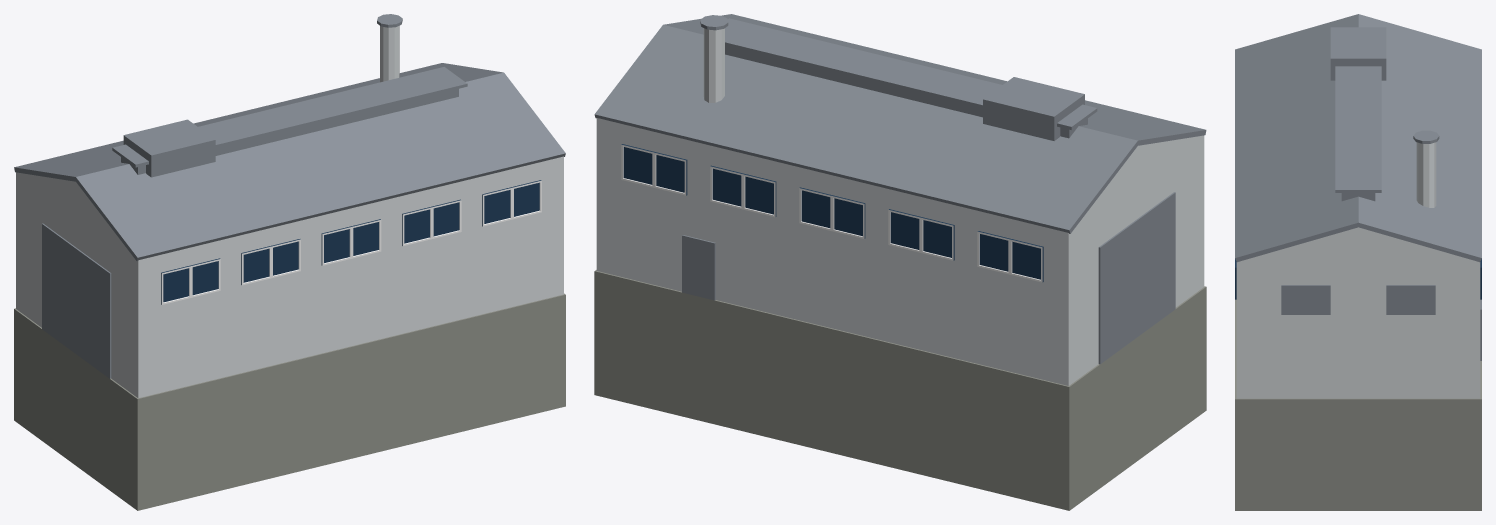
The model's file is site_blower_close.fbx.
The picture shows the model from 3 angles, left to right: view 1: azimuth 30°, elevation 25°; view 2: azimuth 150°, elevation 25°; view 3: azimuth 270°, elevation 25°; orthographic projection. The views are drawn at different scales.
Parts seen in each view (by area): view 1: a1058/0/site_blower_close; view 2: a1058/0/site_blower_close; view 3: a1058/0/site_blower_close.
Boxes of the visible parts, x1,y1,x2,y2 form: a1058/0/site_blower_close: (14, 14, 565, 510); a1058/0/site_blower_close: (594, 14, 1206, 510); a1058/0/site_blower_close: (1235, 14, 1481, 510).
Size of the model in its own units: 12.8 by 9.61 by 6.4.
